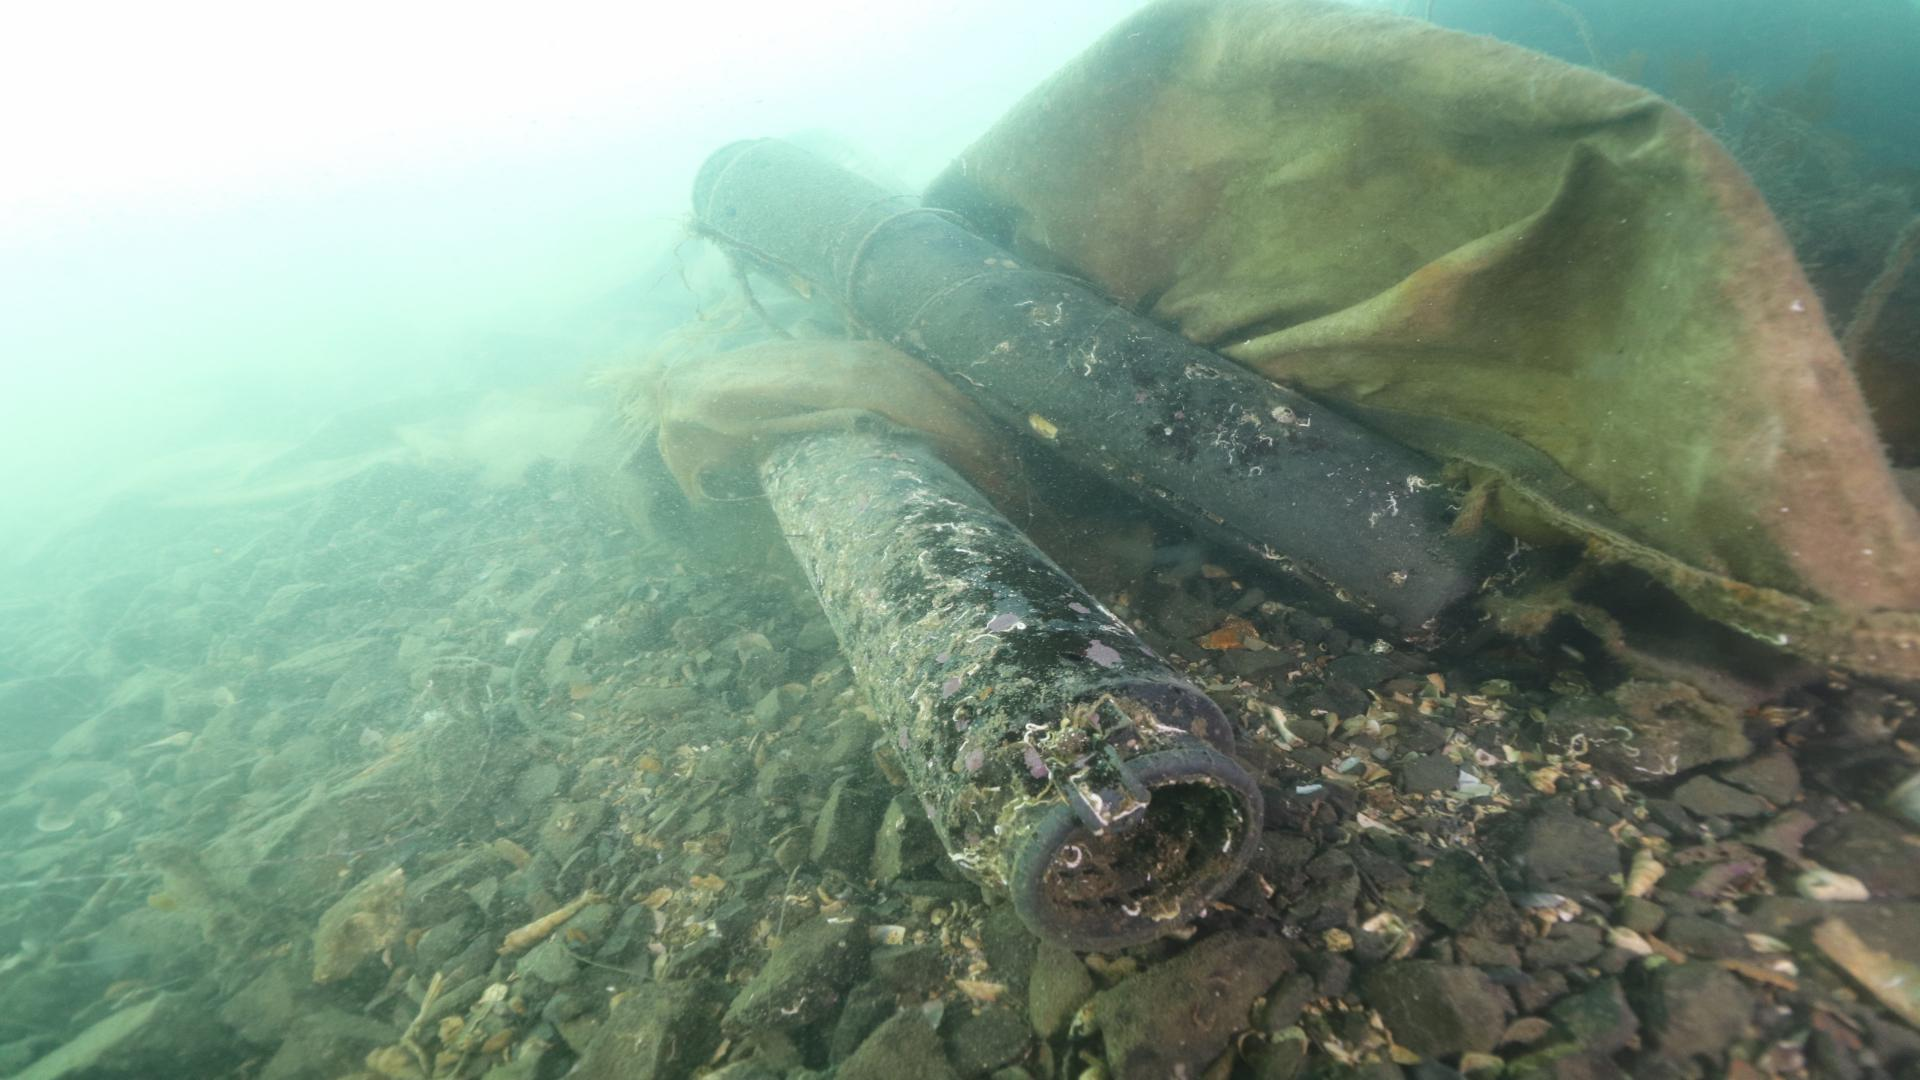bundle of ropes: (717, 200, 969, 335)
eel fish trap: (688, 135, 1495, 651), (756, 429, 1265, 951)
